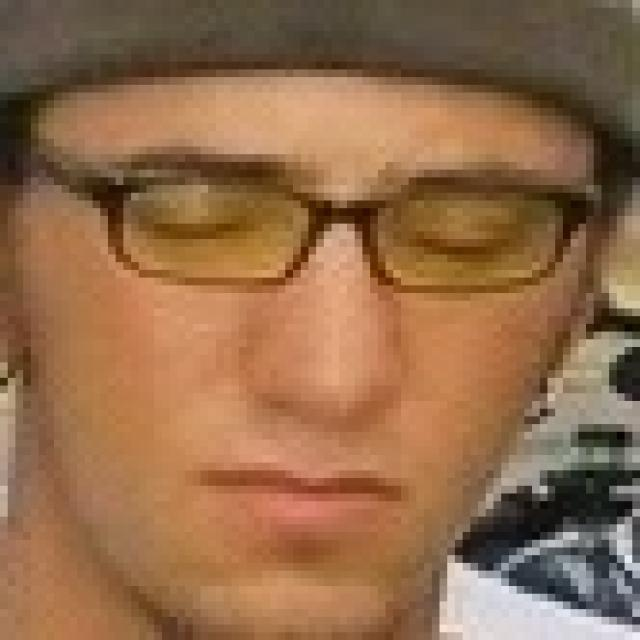close: (90, 130, 318, 270), (374, 131, 555, 270)
